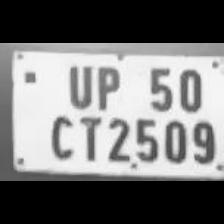0: (172, 64, 206, 112), (159, 114, 187, 164)
2: (102, 113, 131, 164)
5: (130, 113, 159, 164), (143, 64, 173, 110)
9: (188, 115, 218, 165)
C: (43, 110, 76, 160)
P: (90, 61, 122, 111)
T: (74, 112, 102, 162)
U: (62, 60, 94, 108)
